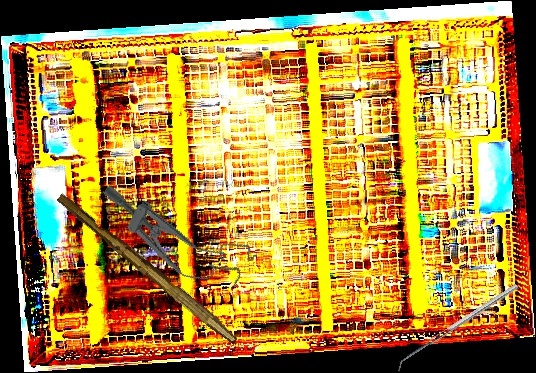Scalpel Handle: (52, 191, 244, 346)
Spatula Surgical: (393, 283, 522, 373)
Speculum: (86, 173, 260, 303)
